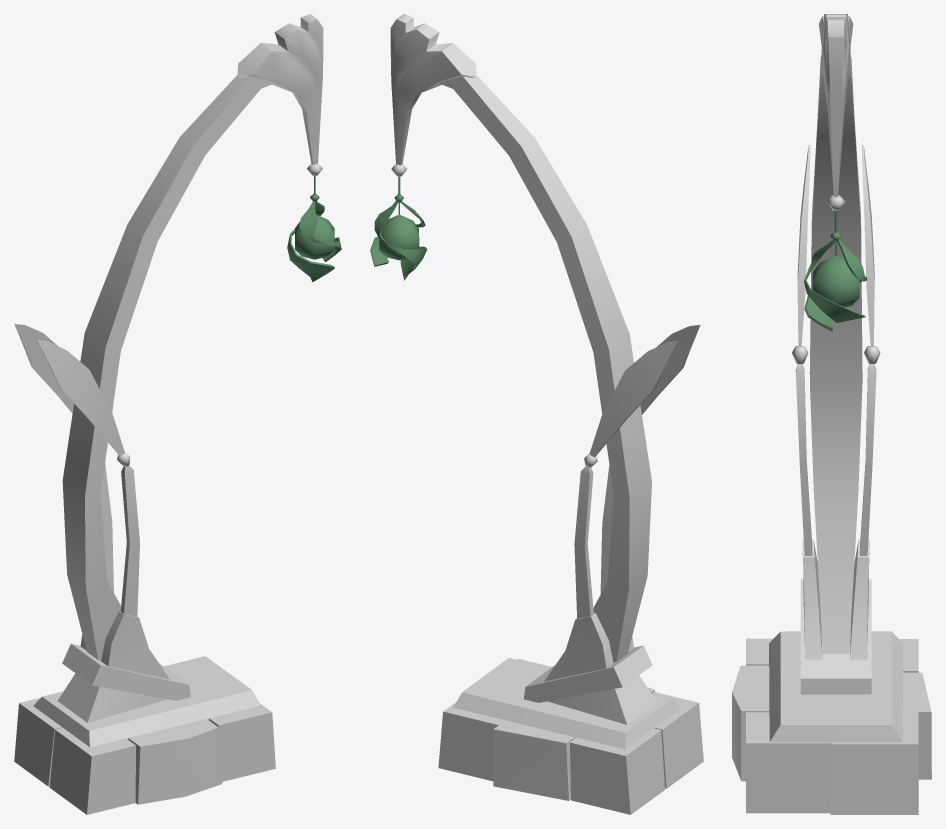
File: Homeworld_Exterior_Xm_Lamp_Light_PortLudeng_01_Lod0.fbx
3 renders of one model, left to right at view 1: azimuth 30°, elevation 25°; view 2: azimuth 150°, elevation 25°; view 3: azimuth 270°, elevation 25°, orthographic. The views are drawn at different scales.
Visible parts, largest first — view 1: Area_Xm_Light_XKC_Chengshiludeng_02_Lod0; view 2: Area_Xm_Light_XKC_Chengshiludeng_02_Lod0; view 3: Area_Xm_Light_XKC_Chengshiludeng_02_Lod0.
Part boxes in pixels (x1,y1,x2,y2): Area_Xm_Light_XKC_Chengshiludeng_02_Lod0: (14, 14, 341, 814); Area_Xm_Light_XKC_Chengshiludeng_02_Lod0: (370, 14, 703, 814); Area_Xm_Light_XKC_Chengshiludeng_02_Lod0: (732, 14, 931, 814).
Bounding box in the file's own units: 2.05 × 4.41 × 0.9548.
